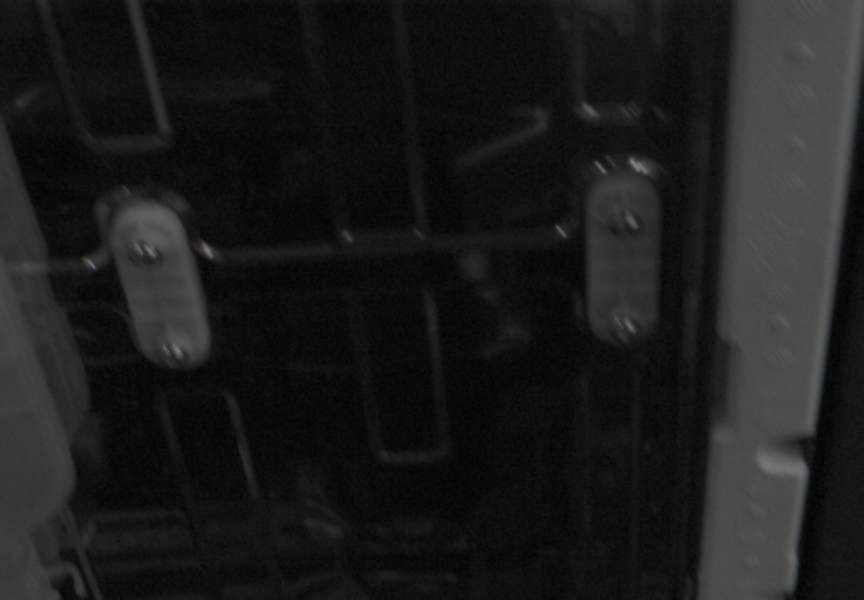screw: (610, 312, 642, 346), (608, 207, 643, 235), (127, 240, 162, 266), (160, 342, 188, 369)
